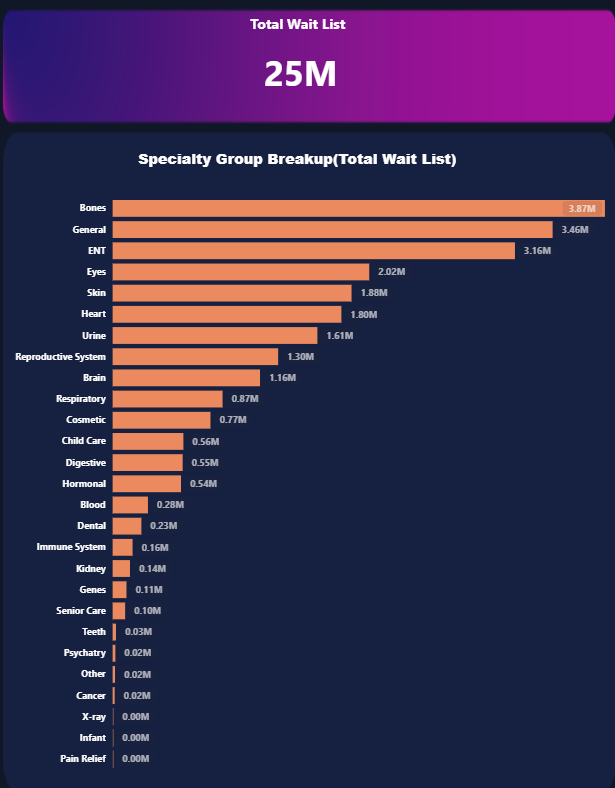

Layout of this report page (visuals, bound fields, positions):
{"tool":"powerbi","page":{"name":"DrillDown","canvas":[816,1056],"ordinal":2},"visuals":[{"type":"barChart","fields":{"Category":["Mapping_Specialty.Specialty Group"],"Y":["Sum(All_Data.Total)"]},"box":[16,240,784,784],"z":0},{"type":"cardVisual","fields":{"Data":["Sum(All_Data.Total)"]},"box":[320,48,272,96],"z":1000},{"type":"textbox","box":[304,16,176,48],"z":2000},{"type":"textbox","box":[80,192,624,48],"z":3000}]}

Visuals, with their boxes in screenshot pixels (x1, y1, x2, y2), scaled from the page's 816x1056 canvas onto the 615x788 screenshot:
barChart - Mapping_Specialty.Specialty Group x Sum(All_Data.Total): <box>12,179,603,764</box>
cardVisual - Sum(All_Data.Total): <box>241,36,446,107</box>
textbox: <box>229,12,362,48</box>
textbox: <box>60,143,531,179</box>
